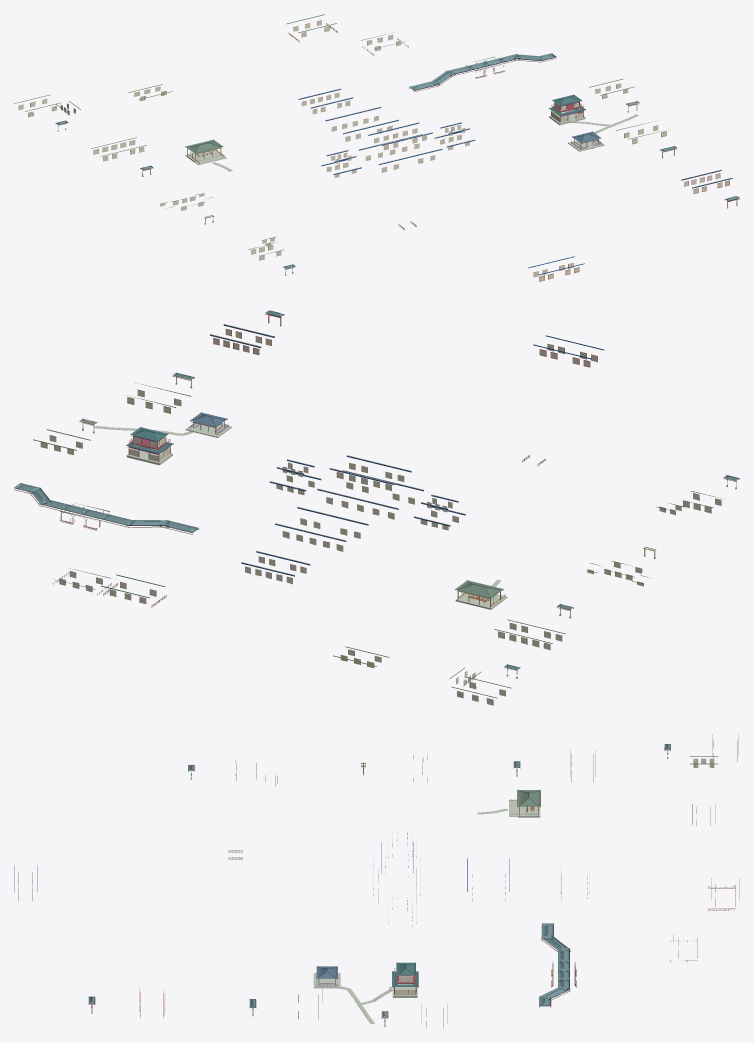
The model's file is sunwen-architecture-fast.glb.
3 views of the same model, one above another, from view 1: azimuth 30°, elevation 25°; view 2: azimuth 150°, elevation 25°; view 3: azimuth 270°, elevation 25° (orthographic). The views are drawn at different scales.
Parts seen in each view (by area): view 1: Sunwen18_daguanlou_paper.001, Sunwen18_daguanlou_blue.001, Sunwen18_Gallery_roof.001; view 2: Sunwen18_daguanlou_paper.001, Sunwen18_Gallery_roof.001, Sunwen18_daguanlou_blue.001; view 3: Sunwen18_Gallery_roof.001, Sunwen18_zilingzhou_stone.001, Sunwen18_jiayintang_stone.001.
Part boxes in pixels (x1,y1,x2,y2): Sunwen18_daguanlou_paper.001: (299, 88, 474, 177); Sunwen18_daguanlou_blue.001: (298, 89, 475, 174); Sunwen18_Gallery_roof.001: (409, 53, 556, 90); Sunwen18_daguanlou_paper.001: (241, 455, 465, 583); Sunwen18_Gallery_roof.001: (14, 483, 198, 532); Sunwen18_daguanlou_blue.001: (241, 456, 465, 576); Sunwen18_Gallery_roof.001: (539, 923, 570, 1006); Sunwen18_zilingzhou_stone.001: (313, 973, 374, 1024); Sunwen18_jiayintang_stone.001: (477, 800, 540, 817).
Size of the model in its own units: 249 by 14.46 by 270.
